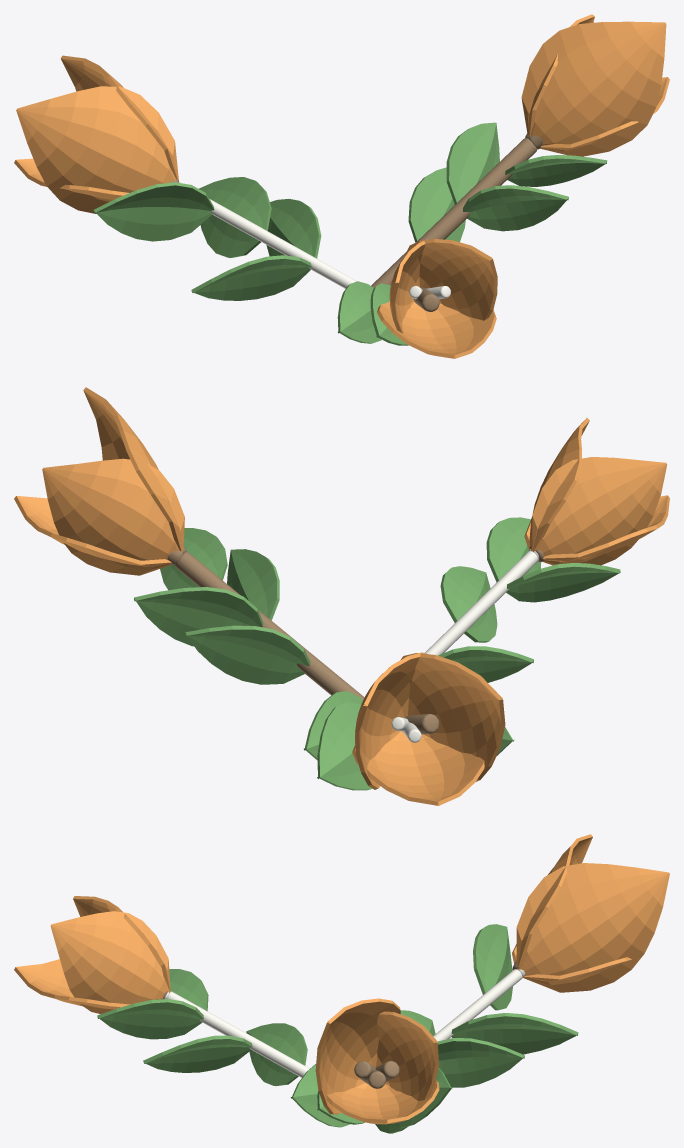
Rendered from bloom_laranja.glb.
3 renders of one model, top to bottom at view 1: azimuth 30°, elevation 25°; view 2: azimuth 150°, elevation 25°; view 3: azimuth 270°, elevation 25°, orthographic. The views are drawn at different scales.
Parts seen in each view (by area): view 1: buganvilia; view 2: buganvilia; view 3: buganvilia.
Boxes of the visible parts, bbox=[...] form: buganvilia: bbox=[14, 14, 669, 358]; buganvilia: bbox=[14, 387, 669, 805]; buganvilia: bbox=[14, 834, 669, 1133].
Bounding box in the file's own units: 0.4197 × 0.1697 × 0.4444.
